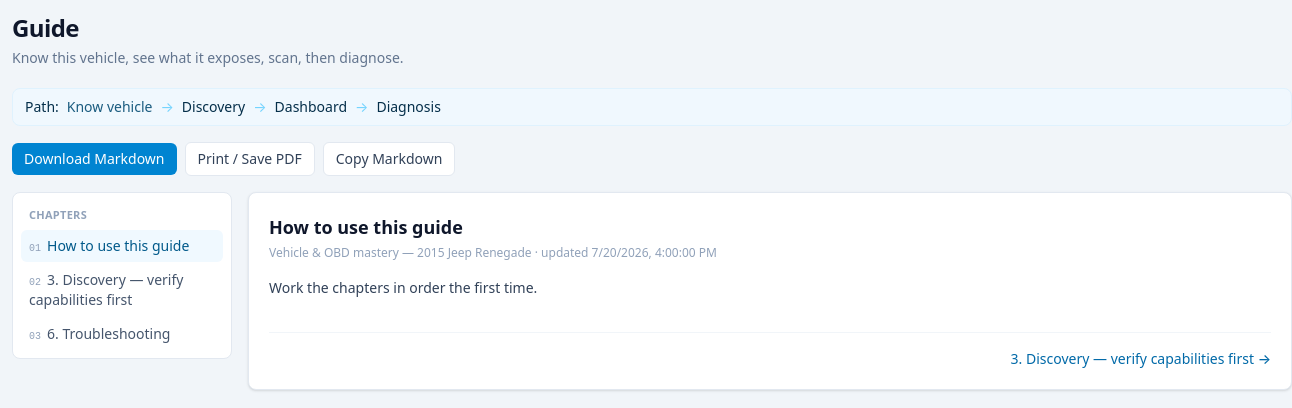
Test: Guide › renders chapters and lets the operator navigate Discovery chapter
expect the heading "Guide" is shown: met, box [12,11,79,44]
expect the button "Download Markdown" is shown: met, box [12,143,176,175]
Click the button "023. Discovery — verify capabilities first" at (122, 290), box [21,264,223,316]
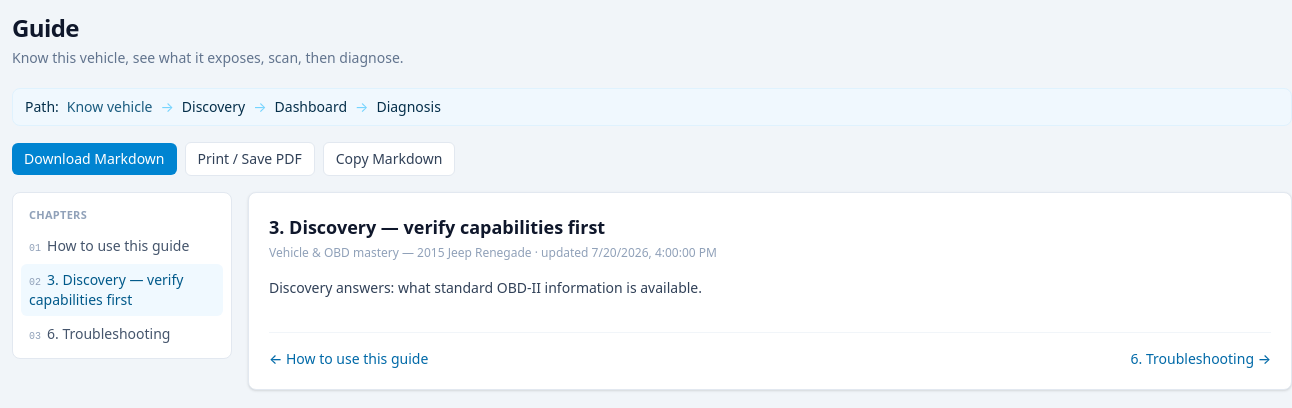
expect the text "what standard OBD-II information is available" is shown: met, box [269,278,702,297]
